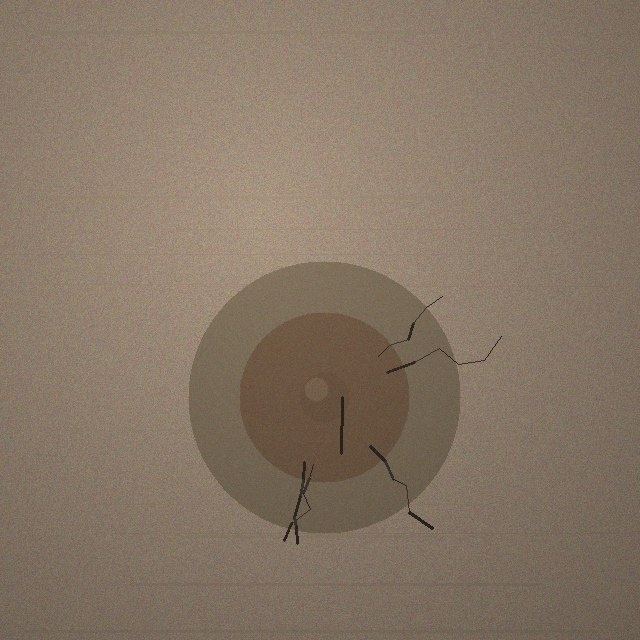crack: (188, 261, 460, 533)
